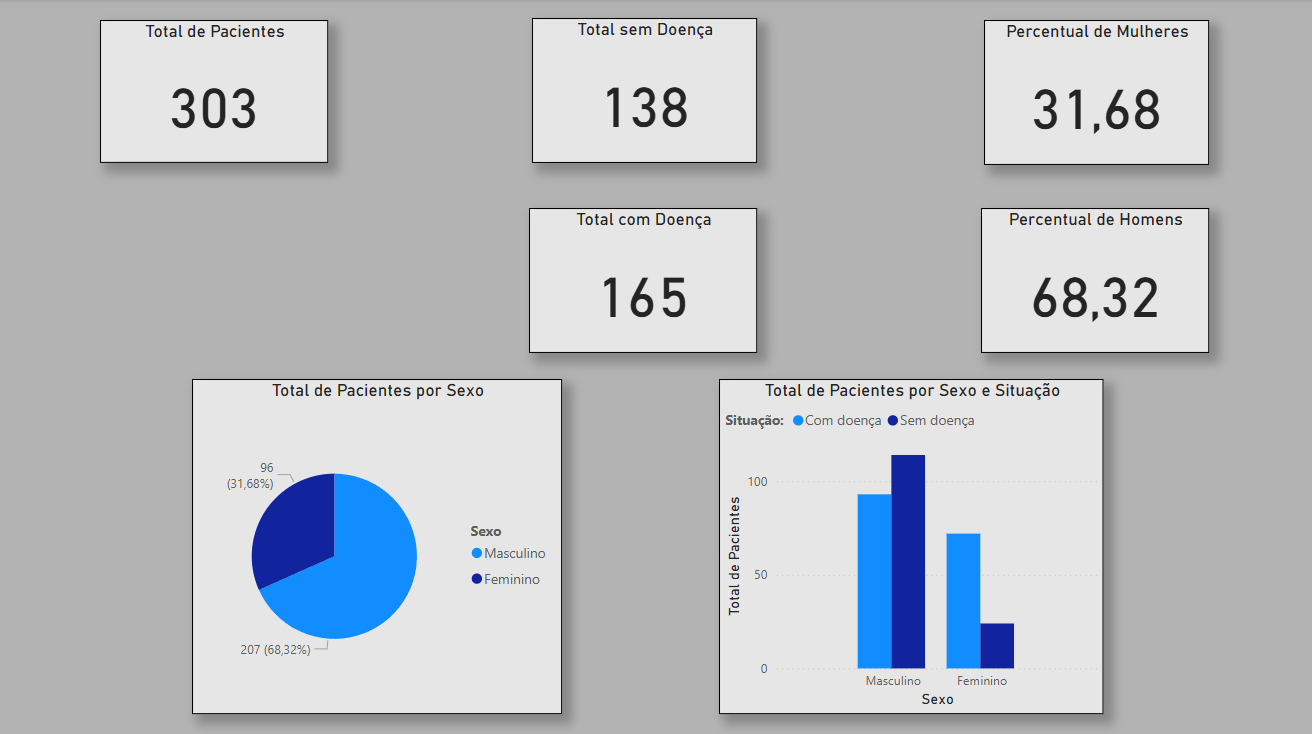

The dashboard page shown, as its layout file describes it:
{"tool":"powerbi","page":{"name":"Geral","canvas":[1280,720],"ordinal":0},"visuals":[{"type":"card","title":"Total de Pacientes","fields":{"Values":["heart.TotalPacientes"]},"box":[99.2,20.4,221.8,139.1],"z":0},{"type":"card","title":"Percentual de Mulheres","fields":{"Values":["heart.PercentualMulheres"]},"box":[959,20.4,218.8,141],"z":1000},{"type":"card","title":"Total sem Doença","fields":{"Values":["heart.Total Sem Doenca"]},"box":[519.4,18.5,218.8,141],"z":2000},{"type":"pieChart","fields":{"Category":["heart.Sexo"],"Y":["heart.TotalPacientes"]},"box":[188.7,369.6,359.9,325.8],"z":3000},{"type":"card","title":"Total com Doença","fields":{"Values":["heart.Total Com Doenca"]},"box":[516.5,203.3,221.8,141],"z":4001},{"type":"card","title":"Percentual de Homens","fields":{"Values":["heart.PercentualHomens"]},"box":[956.1,203.3,221.8,141],"z":4002},{"type":"lineClusteredColumnComboChart","fields":{"Category":["heart.Sexo"],"Series":["heart.TemDoenca"],"Y":["heart.Total de Pacientes"]},"box":[701.3,369.6,374.5,325.8],"z":4003}]}

Visuals, with their boxes in screenshot pixels (x1, y1, x2, y2), scaled from the page's 1280x720 canvas onto the 1312x734 screenshot:
"Total de Pacientes" card: <bbox>102, 21, 329, 163</bbox>
"Percentual de Mulheres" card: <bbox>983, 21, 1207, 165</bbox>
"Total sem Doença" card: <bbox>532, 19, 757, 163</bbox>
pieChart - heart.Sexo x heart.TotalPacientes: <bbox>193, 377, 562, 709</bbox>
"Total com Doença" card: <bbox>529, 207, 757, 351</bbox>
"Percentual de Homens" card: <bbox>980, 207, 1207, 351</bbox>
lineClusteredColumnComboChart - heart.Sexo x heart.TemDoenca: <bbox>719, 377, 1103, 709</bbox>
